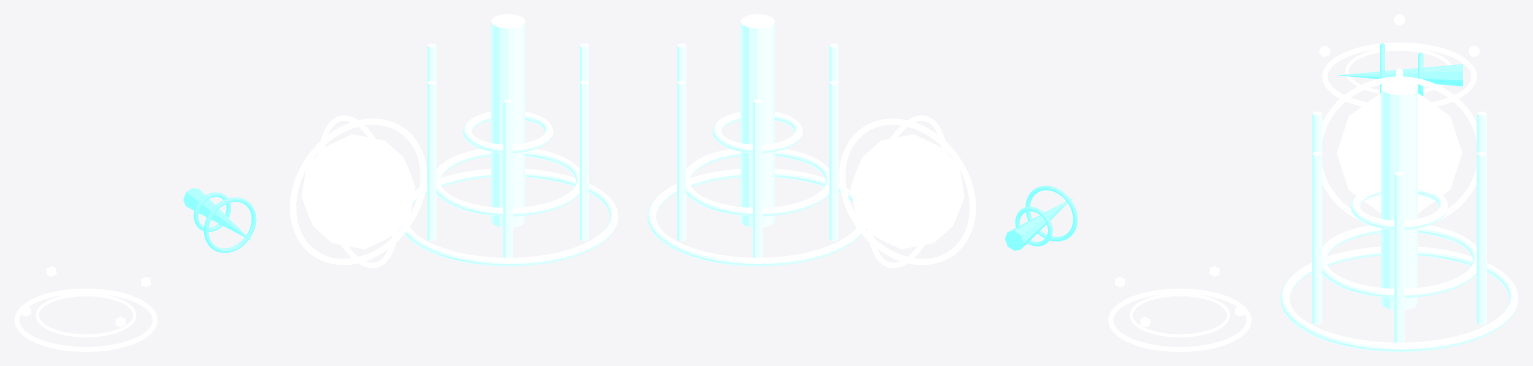
File: greesel_skills_vfx.glb
The picture shows the model from 3 angles, left to right: view 1: azimuth 30°, elevation 25°; view 2: azimuth 150°, elevation 25°; view 3: azimuth 270°, elevation 25°; orthographic projection. The views are drawn at different scales.
Parts seen in each view (by area): view 1: VFX_Ultimate, VFX_Skill_2, VFX_Passive, VFX_Skill_1; view 2: VFX_Ultimate, VFX_Skill_2, VFX_Passive, VFX_Skill_1; view 3: VFX_Ultimate, VFX_Skill_2, VFX_Passive, VFX_Skill_1.
Part boxes in pixels (<box>): VFX_Ultimate: <box>400,14,618,266</box>; VFX_Skill_2: <box>290,115,426,268</box>; VFX_Passive: <box>14,266,157,351</box>; VFX_Skill_1: <box>183,188,256,252</box>; VFX_Ultimate: <box>647,14,865,266</box>; VFX_Skill_2: <box>839,115,975,268</box>; VFX_Passive: <box>1108,266,1251,351</box>; VFX_Skill_1: <box>1005,185,1077,250</box>; VFX_Ultimate: <box>1280,79,1518,351</box>; VFX_Skill_2: <box>1322,68,1476,220</box>; VFX_Passive: <box>1319,14,1479,106</box>; VFX_Skill_1: <box>1338,43,1462,95</box>.
Bounding box in the file's own units: 8.55 × 2.88 × 2.81.
